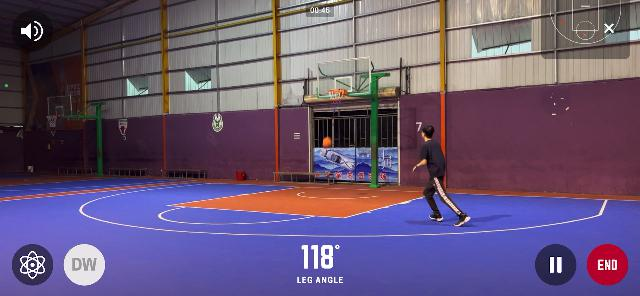ball: (321, 136, 332, 148)
basket: (326, 88, 346, 105)
